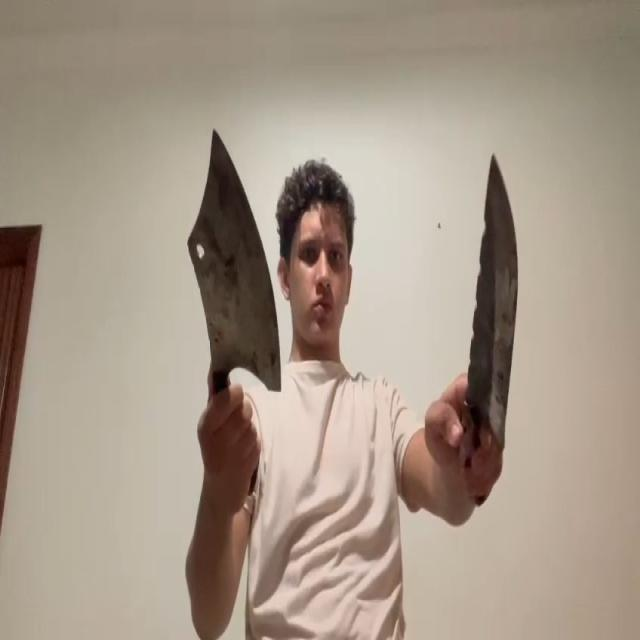knife: (184, 128, 281, 390), (464, 155, 522, 449)
